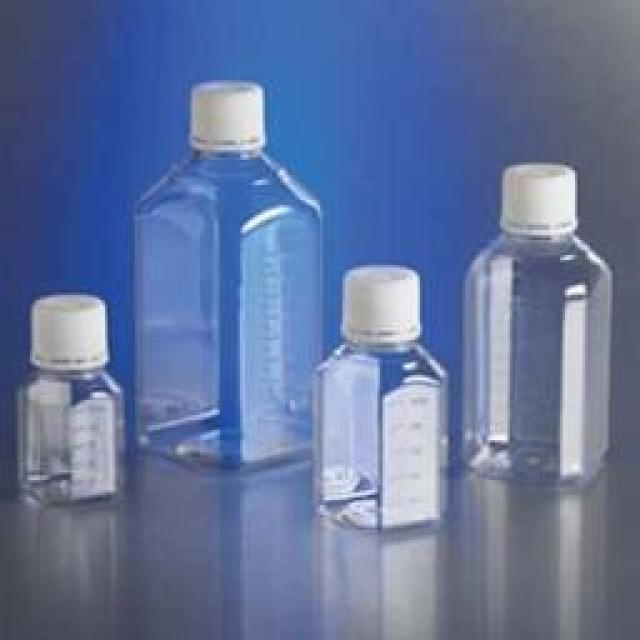bottle: (137, 82, 323, 477), (462, 165, 612, 497), (315, 263, 448, 540), (23, 292, 125, 505)
